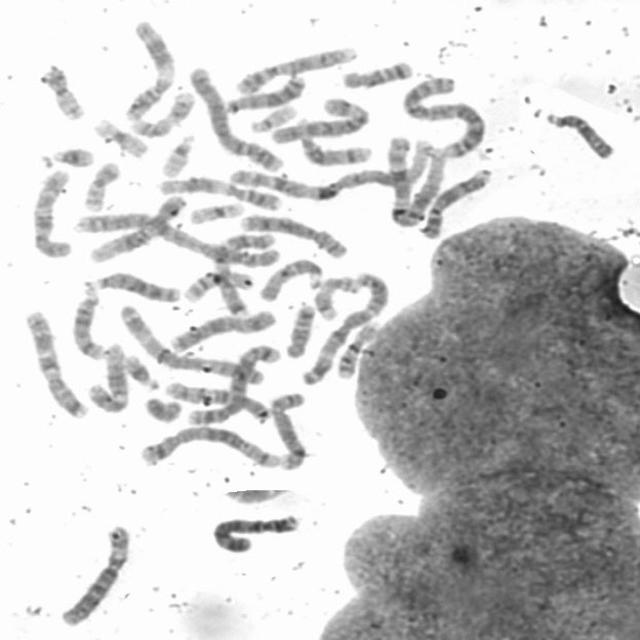A1: (225, 138, 437, 203), (381, 133, 448, 230)
A2: (75, 210, 283, 266), (399, 72, 488, 160)
A3: (115, 300, 269, 382), (295, 268, 393, 387)
B4: (185, 63, 287, 174), (207, 509, 302, 555)
B5: (182, 337, 281, 426), (134, 422, 283, 469)
C10: (162, 379, 272, 425), (27, 165, 75, 259)
C11: (121, 16, 180, 123), (155, 173, 284, 211)
C12: (85, 192, 189, 264), (83, 339, 130, 413)
C6: (56, 520, 134, 629), (268, 94, 372, 146)
C7: (19, 306, 92, 421), (209, 230, 278, 320)
C8: (236, 210, 350, 259), (264, 387, 312, 471)
C9: (232, 42, 359, 95), (416, 163, 496, 241)
D13: (218, 72, 306, 116), (77, 269, 181, 304)
D14: (67, 282, 106, 362), (296, 130, 376, 167)
D15: (538, 106, 618, 161), (254, 253, 326, 302)
E16: (332, 319, 380, 380), (178, 266, 254, 304)
E17: (125, 87, 196, 139), (311, 274, 360, 321)
E18: (338, 58, 414, 89), (282, 301, 317, 359)
F19: (89, 114, 150, 159), (185, 198, 245, 226)
F20: (37, 61, 87, 121), (79, 157, 122, 212)
G21: (119, 350, 162, 391), (45, 142, 98, 168)
G22: (156, 130, 197, 178), (246, 102, 300, 133)
X: (166, 304, 278, 354)
Y: (140, 394, 182, 424)
